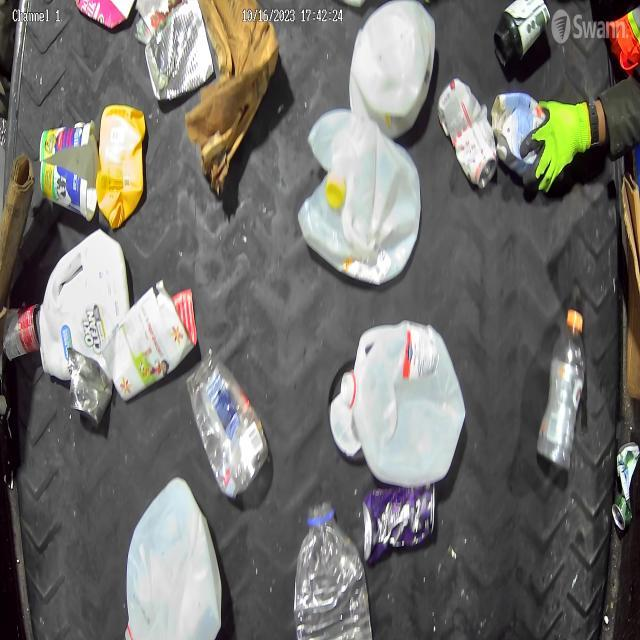milk_jug: (299, 101, 421, 284), (342, 323, 464, 486), (128, 476, 222, 640), (40, 225, 129, 378), (348, 0, 436, 135)
plastic_bottle: (295, 501, 375, 640)
